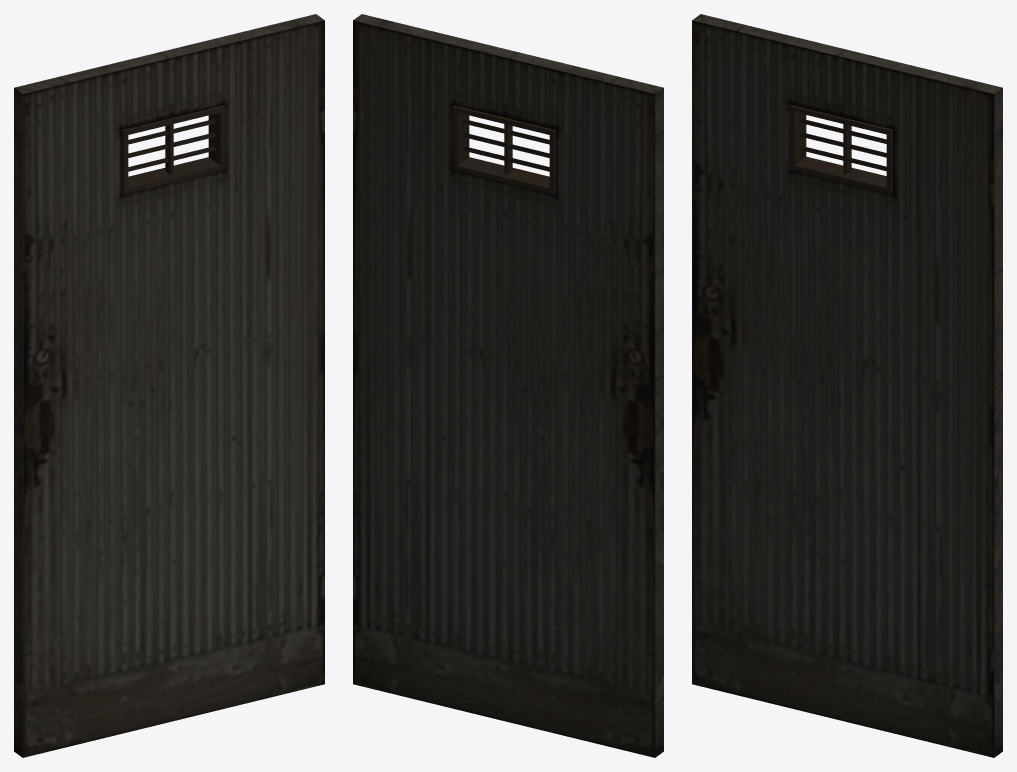
File: door_hr_8.obj
The picture shows the model from 3 angles, left to right: view 1: azimuth 30°, elevation 25°; view 2: azimuth 150°, elevation 25°; view 3: azimuth 330°, elevation 25°; orthographic projection.
Parts seen in each view (by area): view 1: door_hr_8; view 2: door_hr_8; view 3: door_hr_8.
Part boxes in pixels (x1,y1,x2,y2): door_hr_8: (14,14,324,757); door_hr_8: (353,14,663,757); door_hr_8: (692,14,1002,757).
Bounding box in the file's own units: 1 × 2.1 × 0.07.
